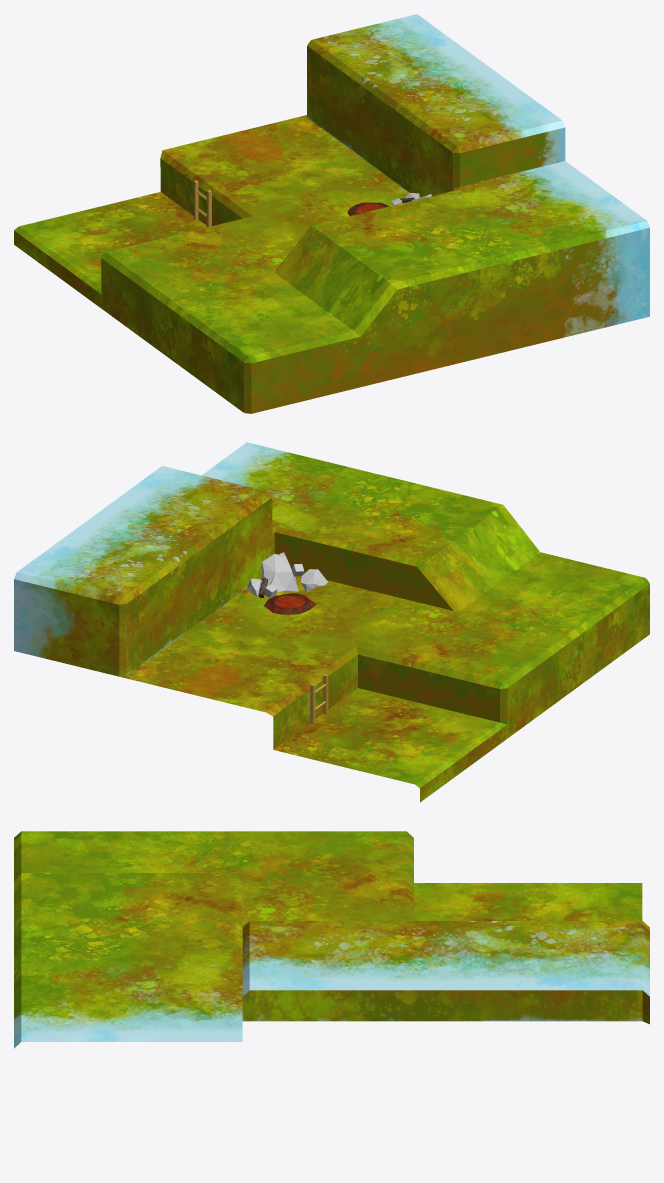
File: lvl_3-cnk_2.obj
3 views of the same model, one above another, from view 1: azimuth 30°, elevation 25°; view 2: azimuth 150°, elevation 25°; view 3: azimuth 270°, elevation 25° (orthographic). The views are drawn at different scales.
Visible parts, largest first — view 1: chunk_3.002; view 2: chunk_3.002, Campamento.004, Escaleras.001; view 3: chunk_3.002.
Boxes of the visible parts, x1,y1,x2,y2 form: chunk_3.002: (14,14,649,413); chunk_3.002: (14,442,649,802); Campamento.004: (247,552,327,614); Escaleras.001: (310,674,328,723); chunk_3.002: (14,831,649,1048).
Size of the model in its own units: 99 by 31 by 100.
Materials: 6 (4 with a texture image).
